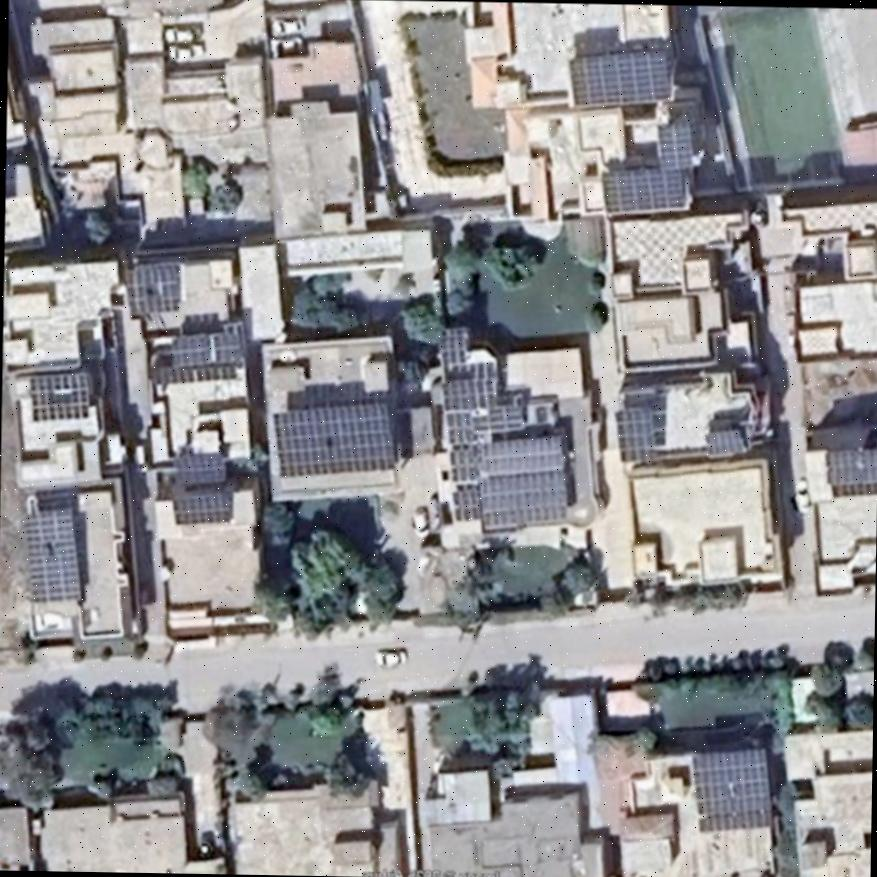Solarpanel: (271, 403, 397, 480), (477, 434, 568, 530), (688, 751, 768, 829), (565, 50, 668, 108), (19, 508, 78, 600), (601, 169, 682, 210), (29, 370, 86, 424), (125, 262, 179, 312), (166, 331, 240, 365), (826, 447, 877, 493), (614, 407, 652, 467), (171, 493, 233, 523), (168, 450, 223, 483), (657, 123, 693, 171), (446, 380, 498, 406), (468, 407, 521, 431), (439, 329, 465, 374), (703, 426, 743, 454), (450, 485, 480, 522), (452, 445, 482, 481), (452, 361, 499, 381), (446, 410, 472, 442)
